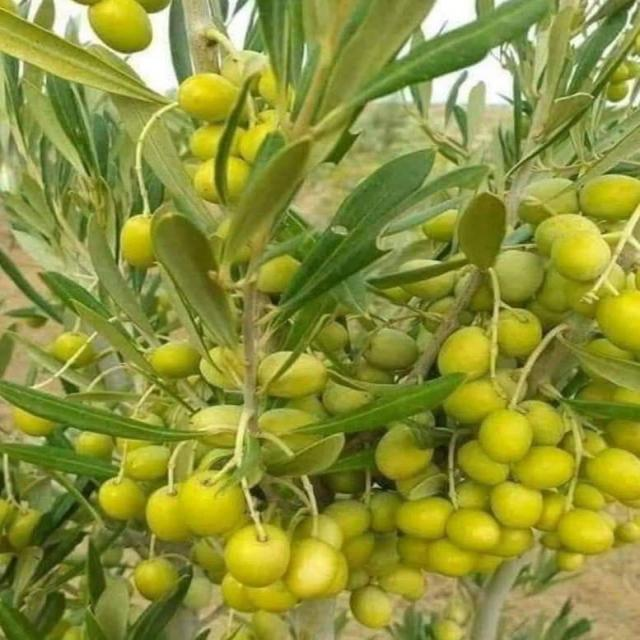Healthy: (180, 471, 245, 536), (224, 525, 290, 587), (87, 0, 152, 53), (287, 537, 338, 599), (477, 409, 532, 464), (583, 447, 639, 501), (551, 232, 610, 282), (554, 509, 614, 554), (490, 482, 543, 528), (446, 509, 501, 553), (396, 497, 452, 540), (98, 478, 145, 521)
